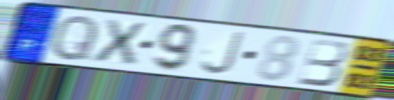8: (254, 34, 302, 84)
9: (150, 23, 198, 73)
B: (296, 37, 350, 88)
J: (198, 29, 247, 77)
Q: (49, 13, 101, 62)
X: (91, 18, 149, 66)
